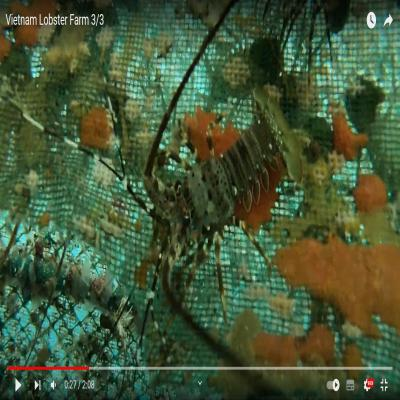lobster: (153, 92, 293, 264)
